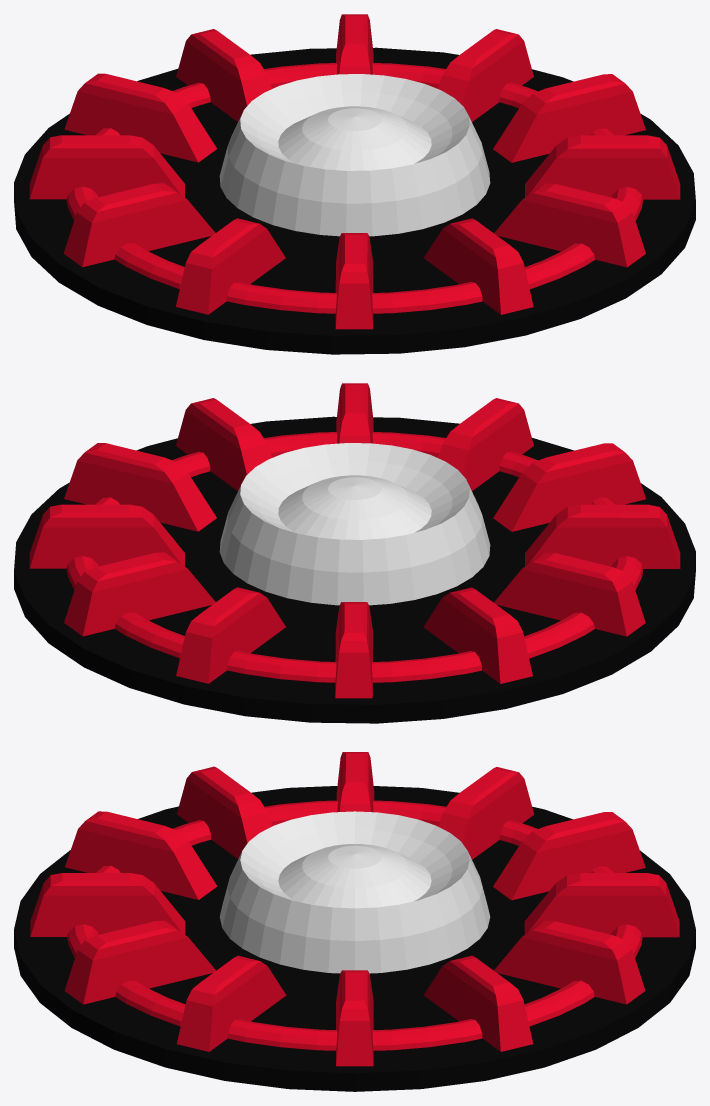
Rendered from receiver.glb.
The picture shows the model from 3 angles, top to bottom: view 1: azimuth 30°, elevation 25°; view 2: azimuth 150°, elevation 25°; view 3: azimuth 270°, elevation 25°; orthographic projection.
Parts seen in each view (by area): view 1: Circle, Sphere, Torus, Cube.005, Cube.009, Cube.011, Cube.003, Cube.004, Cube.010, Cube.008, Cube.006, Cube.002 (+3 smaller); view 2: Circle, Sphere, Torus, Cube.001, Cube.009, Cube.003, Cube.007, Cube.008, Cube.002, Cube, Cube.010, Cube.006 (+3 smaller); view 3: Circle, Sphere, Torus, Cube.001, Cube.005, Cube.007, Cube.011, Cube, Cube.006, Cube.002, Cube.004, Cube.010 (+3 smaller).
Boxes of the visible parts, x1=… form: Circle: x1=14, y1=47, x2=695, y2=354; Sphere: x1=219, y1=74, x2=490, y2=236; Torus: x1=66, y1=63, x2=643, y2=313; Cube.005: x1=494, y1=183, x2=645, y2=267; Cube.009: x1=63, y1=183, x2=215, y2=267; Cube.011: x1=64, y1=73, x2=216, y2=162; Cube.003: x1=493, y1=74, x2=645, y2=162; Cube.004: x1=525, y1=135, x2=680, y2=199; Cube.010: x1=29, y1=135, x2=184, y2=199; Cube.008: x1=176, y1=218, x2=285, y2=314; Cube.006: x1=424, y1=218, x2=533, y2=314; Cube.002: x1=437, y1=29, x2=533, y2=121; Circle: x1=14, y1=416, x2=695, y2=723; Sphere: x1=219, y1=443, x2=490, y2=605; Torus: x1=66, y1=432, x2=643, y2=682; Cube.001: x1=64, y1=552, x2=215, y2=636; Cube.009: x1=494, y1=552, x2=645, y2=636; Cube.003: x1=64, y1=443, x2=216, y2=531; Cube.007: x1=493, y1=443, x2=645, y2=531; Cube.008: x1=525, y1=504, x2=680, y2=568; Cube.002: x1=29, y1=504, x2=184, y2=568; Cube: x1=176, y1=587, x2=285, y2=683; Cube.010: x1=423, y1=587, x2=532, y2=683; Cube.006: x1=437, y1=398, x2=533, y2=490; Circle: x1=14, y1=786, x2=695, y2=1091; Sphere: x1=219, y1=811, x2=490, y2=973; Torus: x1=67, y1=800, x2=642, y2=1050; Cube.001: x1=494, y1=920, x2=645, y2=1004; Cube.005: x1=64, y1=920, x2=215, y2=1004; Cube.007: x1=65, y1=811, x2=217, y2=899; Cube.011: x1=493, y1=812, x2=645, y2=900; Cube: x1=524, y1=873, x2=679, y2=937; Cube.006: x1=30, y1=873, x2=185, y2=936; Cube.002: x1=423, y1=955, x2=533, y2=1051; Cube.004: x1=177, y1=955, x2=286, y2=1051; Cube.010: x1=438, y1=767, x2=534, y2=859.
Size of the model in its own units: 0.6205 by 0.094 by 0.6205.
